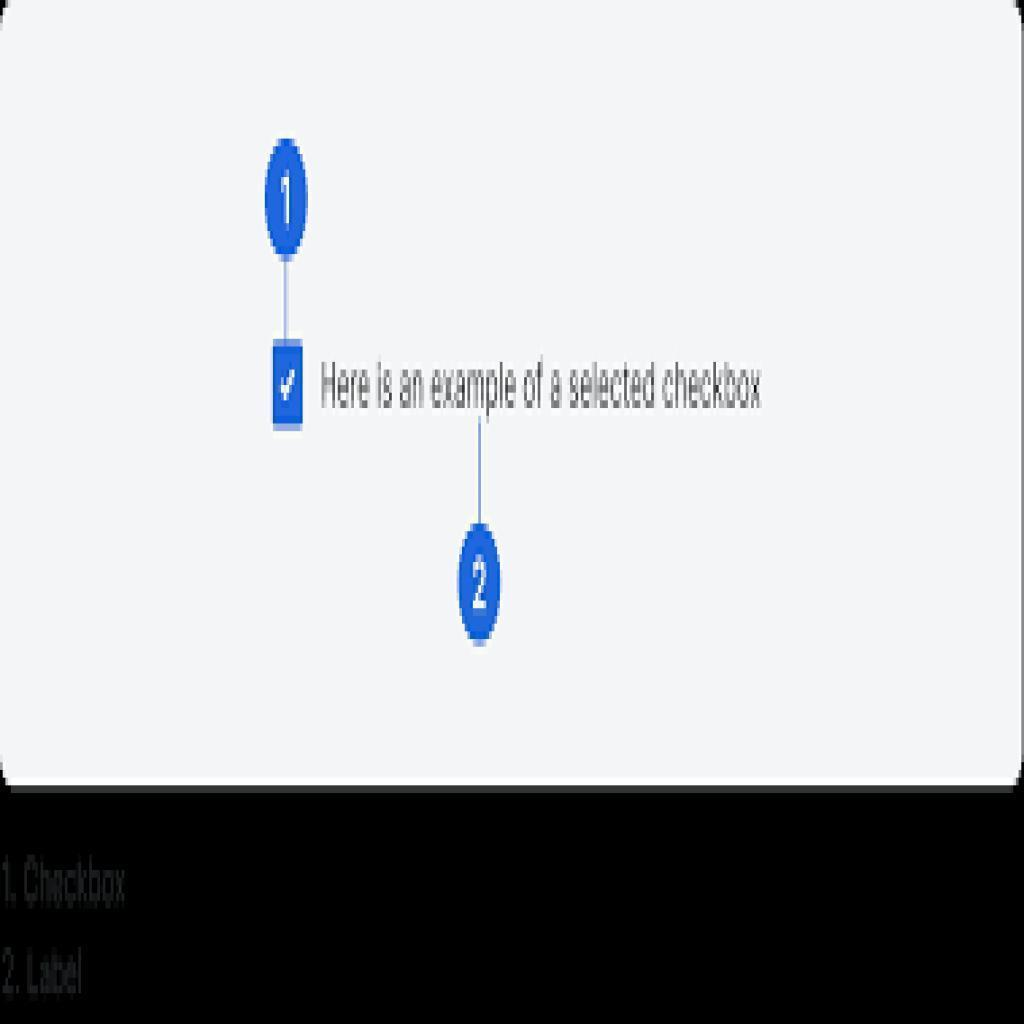checkbox: (273, 337, 303, 431)
label: (313, 354, 764, 417)
